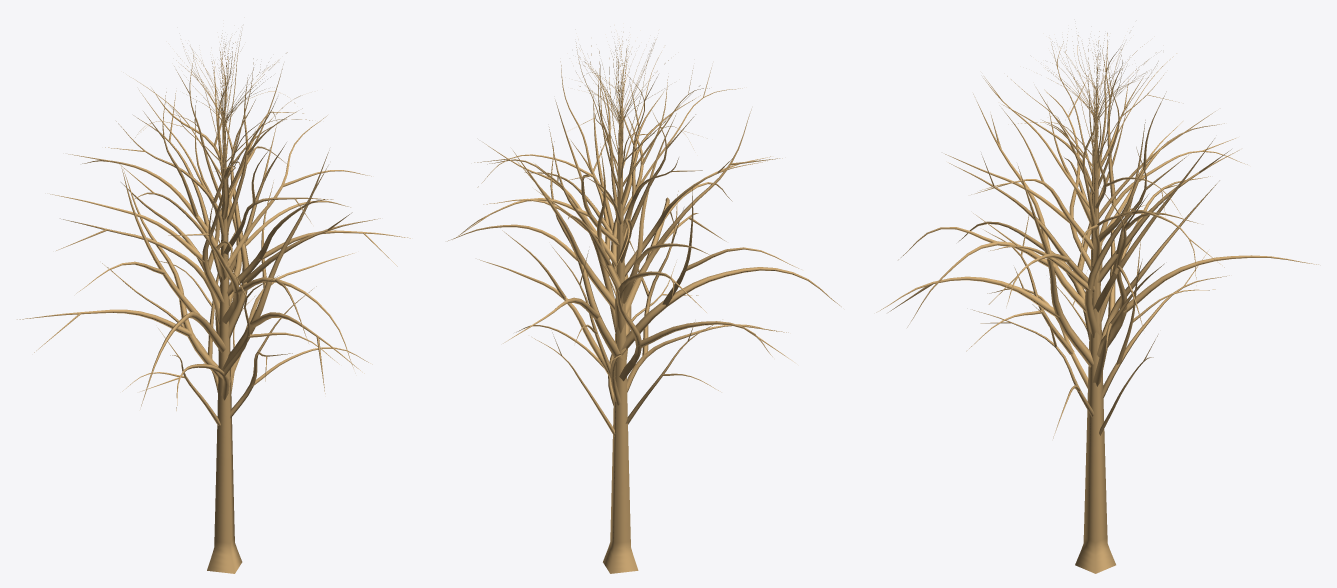
The model's file is pohon verse 2.fbx.
3 views of the same model, side by side, from view 1: azimuth 30°, elevation 25°; view 2: azimuth 150°, elevation 25°; view 3: azimuth 270°, elevation 25° (orthographic).
Parts seen in each view (by area): view 1: tree.002; view 2: tree.002; view 3: tree.002.
Part boxes in pixels (x1=…): tree.002: x1=17, y1=33, x2=410, y2=573; tree.002: x1=447, y1=32, x2=841, y2=573; tree.002: x1=876, y1=28, x2=1318, y2=573.
Bounding box in the file's own units: 441 × 674 × 502.
